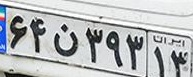character: (48, 18, 84, 58), (84, 24, 105, 66), (124, 30, 144, 73), (105, 26, 124, 70), (29, 14, 48, 55), (8, 13, 28, 51), (169, 47, 191, 77), (152, 44, 168, 77)
